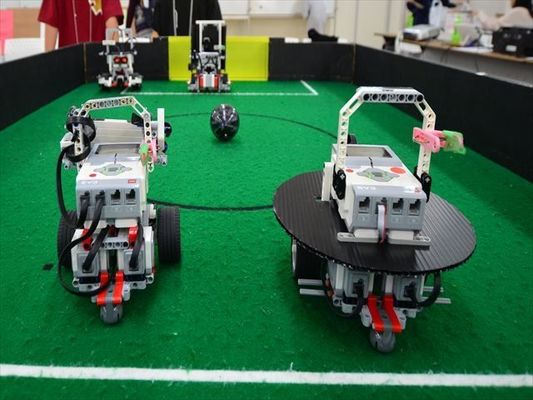Goal: (163, 33, 272, 83)
Robot: (270, 79, 477, 360), (56, 94, 183, 325), (186, 16, 234, 93), (97, 21, 144, 92)
